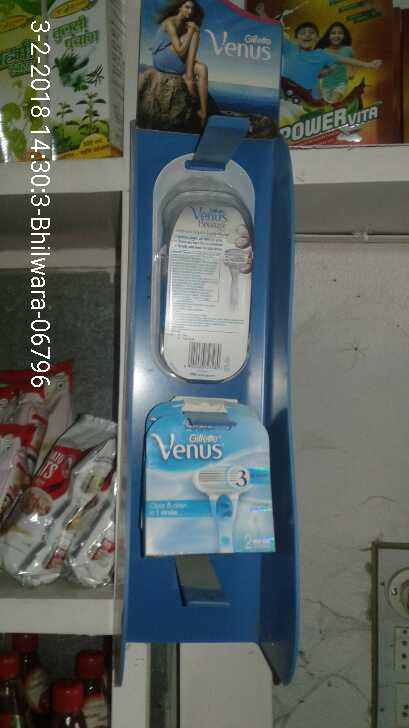venus: (142, 404, 285, 561)
